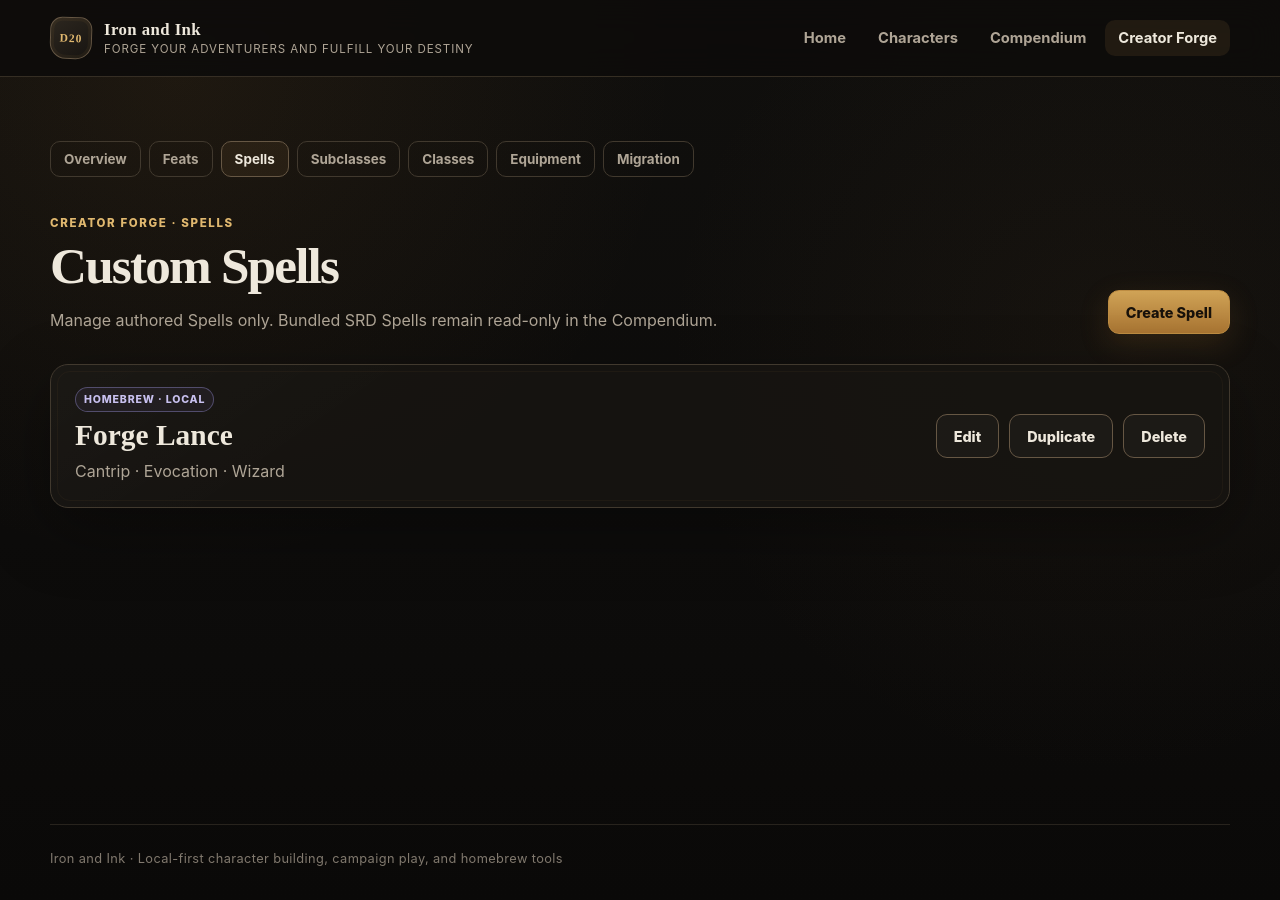
Test: M16-G routed referential-integrity acceptance › shows useful blockers when a custom Spell is referenced by both a custom Class and Subclass
Click the button "Delete": (1164, 436) x1=1123 y1=414 x2=1205 y2=458
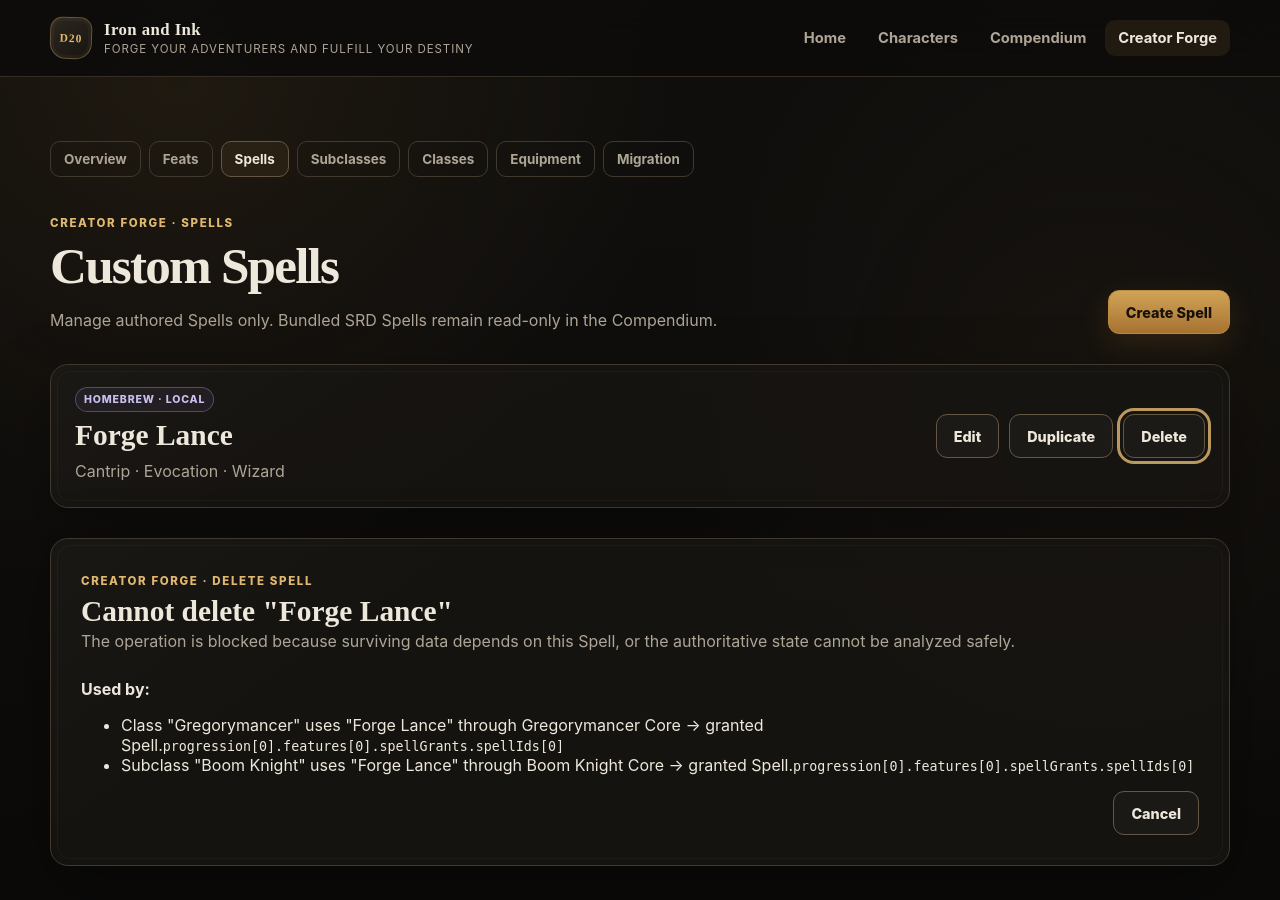
Expected: the heading "Cannot delete \"Forge Lance\"" is shown, x1=81 y1=596 x2=453 y2=628
Expected: the element named "Delete blockers" shows "Gregorymancer", x1=121 y1=715 x2=764 y2=755
Expected: the element named "Delete blockers" shows "Boom Knight", x1=121 y1=755 x2=793 y2=775
